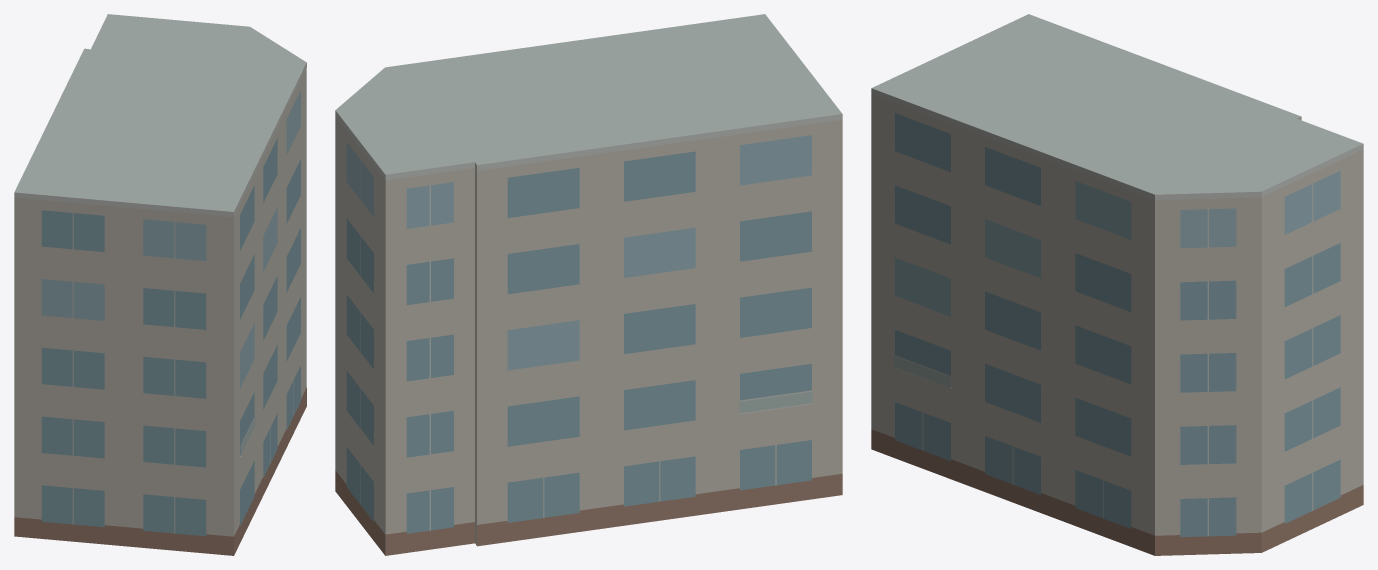
Rendered from survey-upis-32523860.glb.
The picture shows the model from 3 angles, left to right: view 1: azimuth 30°, elevation 25°; view 2: azimuth 150°, elevation 25°; view 3: azimuth 270°, elevation 25°; orthographic projection. The views are drawn at different scales.
Visible parts, largest first — view 1: survey-upis-32523860.tmp; view 2: survey-upis-32523860.tmp; view 3: survey-upis-32523860.tmp.
Boxes of the visible parts, x1,y1,x2,y2 form: survey-upis-32523860.tmp: [14, 14, 306, 555]; survey-upis-32523860.tmp: [335, 14, 842, 555]; survey-upis-32523860.tmp: [871, 14, 1363, 555].
Size of the model in its own units: 17.29 by 16.1 by 19.89.
